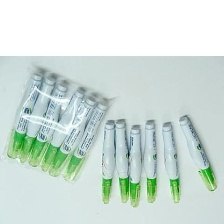correction_fluid: (46, 93, 98, 178), (60, 99, 109, 182), (40, 86, 86, 174), (15, 74, 58, 167), (25, 80, 69, 170), (5, 70, 45, 161), (179, 114, 219, 193), (160, 121, 182, 204), (140, 120, 160, 204), (99, 120, 118, 206), (113, 118, 131, 205), (127, 124, 142, 208)
